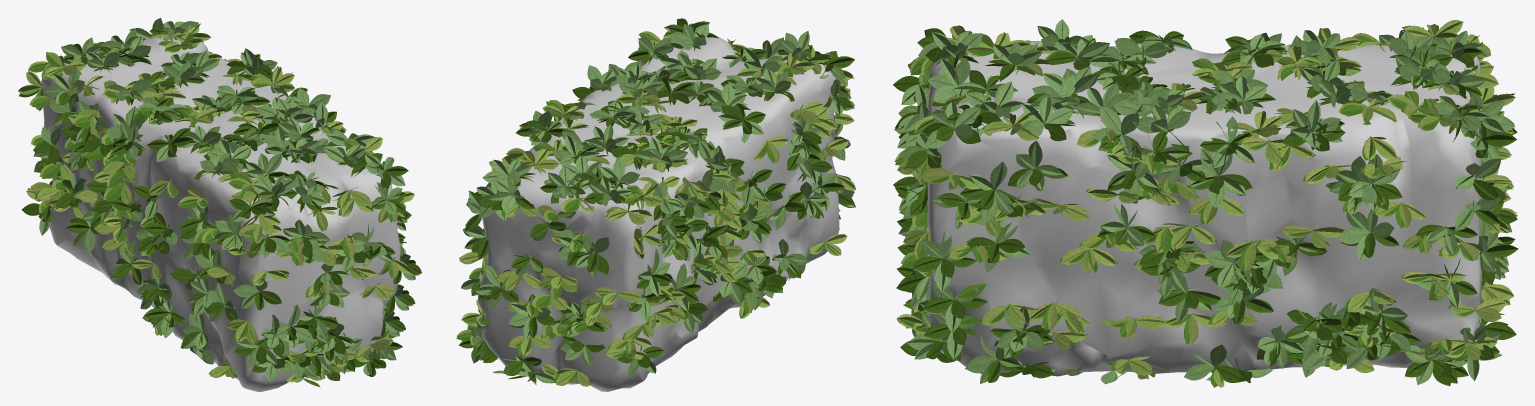
File: hedge.fbx
The picture shows the model from 3 angles, left to right: view 1: azimuth 30°, elevation 25°; view 2: azimuth 150°, elevation 25°; view 3: azimuth 270°, elevation 25°; orthographic projection. The views are drawn at different scales.
Parts seen in each view (by area): view 1: hedge_Leaves, hedge; view 2: hedge_Leaves, hedge; view 3: hedge_Leaves, hedge.
Boxes of the visible parts, <box> form: hedge_Leaves: <box>18,18,421,387</box>; hedge: <box>41,37,400,391</box>; hedge_Leaves: <box>456,18,855,386</box>; hedge: <box>477,35,839,391</box>; hedge_Leaves: <box>893,19,1518,387</box>; hedge: <box>927,40,1482,376</box>.
Bounding box in the file's own units: 115 × 116 × 230.
